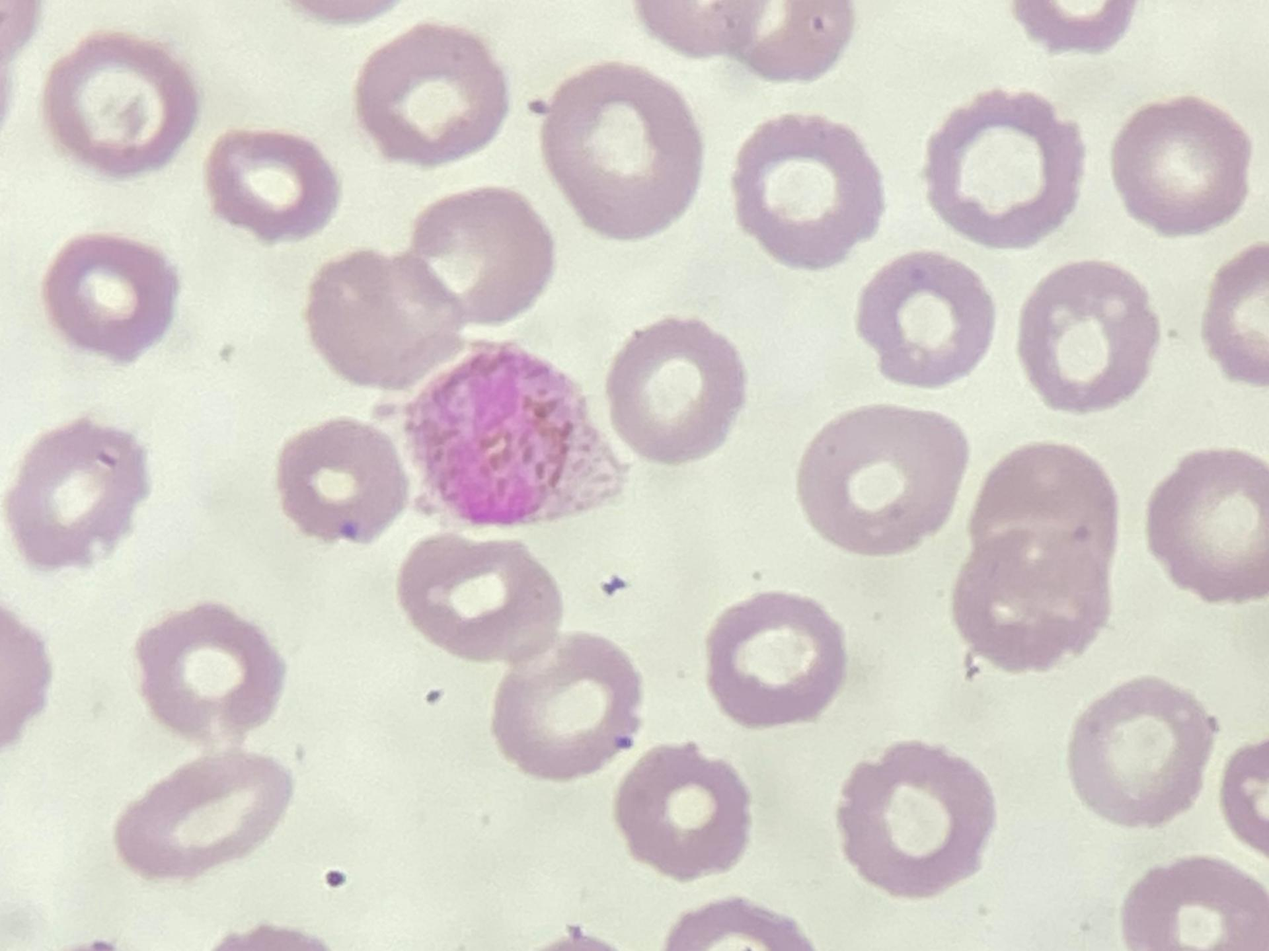Infected: (405, 344, 626, 531)
Uninfected: (546, 65, 706, 245), (802, 404, 969, 556), (837, 741, 997, 897), (925, 91, 1083, 247), (114, 751, 293, 884), (732, 115, 882, 266), (5, 416, 150, 569), (396, 531, 561, 665), (490, 636, 641, 782), (132, 602, 286, 745), (357, 23, 511, 165), (1067, 677, 1213, 826), (42, 33, 196, 174), (1018, 259, 1156, 408), (307, 250, 459, 383), (412, 188, 560, 324), (704, 592, 849, 728), (954, 538, 1102, 671), (855, 250, 996, 389), (610, 314, 743, 459), (1143, 449, 1269, 601), (1112, 96, 1250, 233), (616, 743, 753, 880), (42, 231, 178, 363), (970, 443, 1112, 562), (274, 418, 408, 544), (206, 128, 338, 243)
